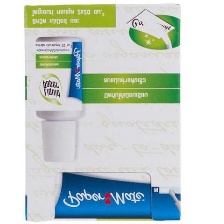book: (19, 2, 184, 224)
correction_fluid: (31, 33, 85, 164)
